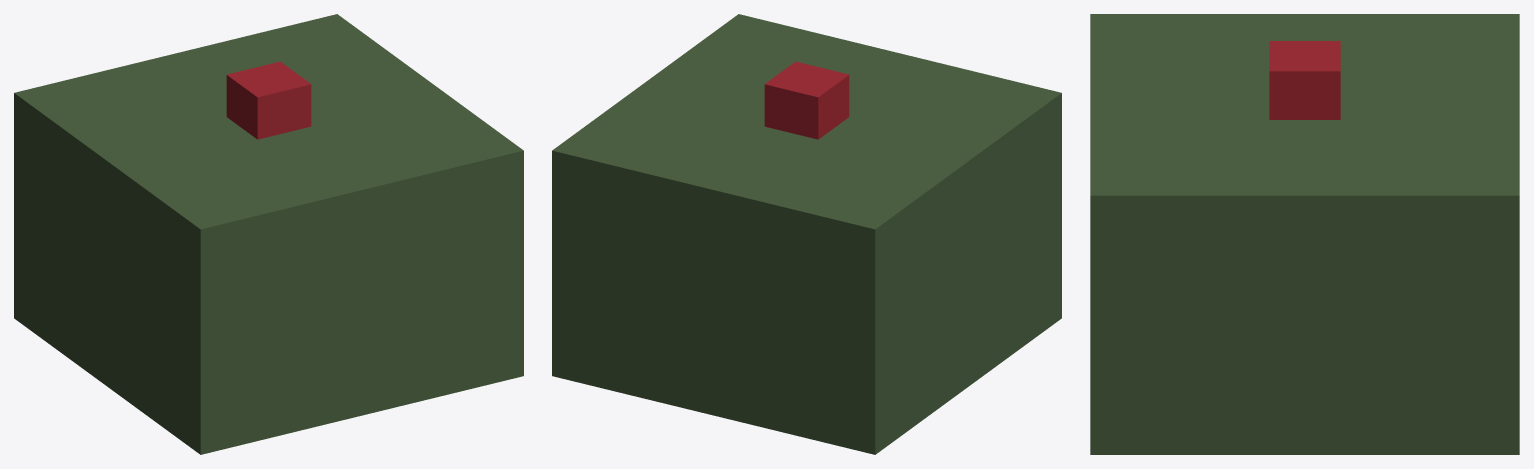
File: bush.glb
The picture shows the model from 3 angles, left to right: view 1: azimuth 30°, elevation 25°; view 2: azimuth 150°, elevation 25°; view 3: azimuth 270°, elevation 25°; orthographic projection. The views are drawn at different scales.
Visible parts, largest first — view 1: bush; view 2: bush; view 3: bush.
Part boxes in pixels (box(x1,y1,x2,y2)): bush: box(14, 14, 523, 454); bush: box(552, 14, 1061, 454); bush: box(1090, 14, 1519, 454).
Size of the model in its own units: 1.2 by 0.95 by 1.2.
